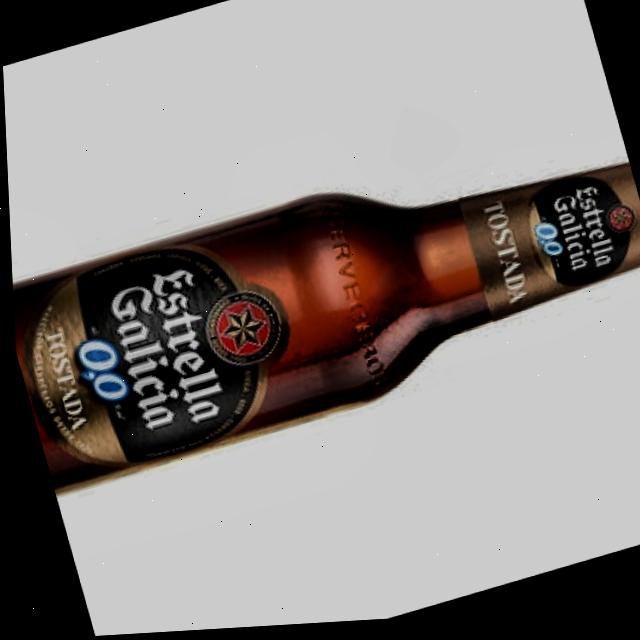glass: (10, 171, 640, 500)
